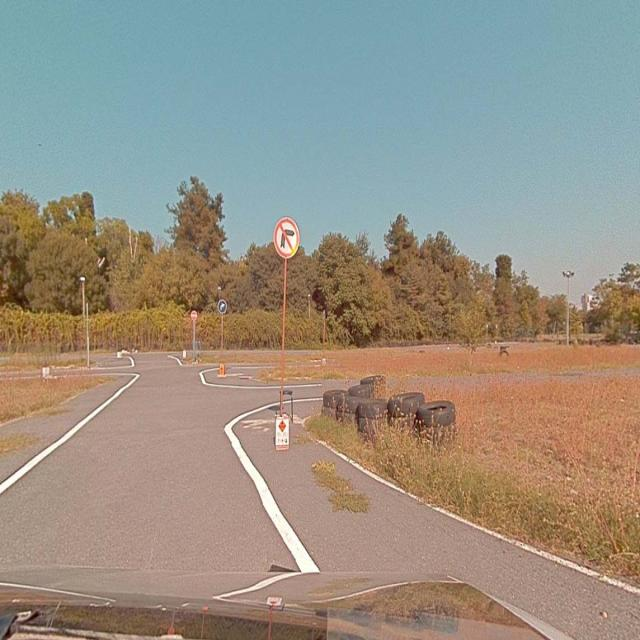girisyok: (191, 310, 197, 321)
sag: (217, 299, 227, 313)
sagadonulmez: (274, 217, 299, 257)
